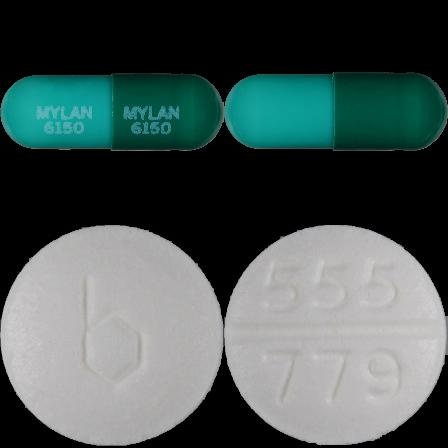63629-2607: (0, 0, 224, 224)
